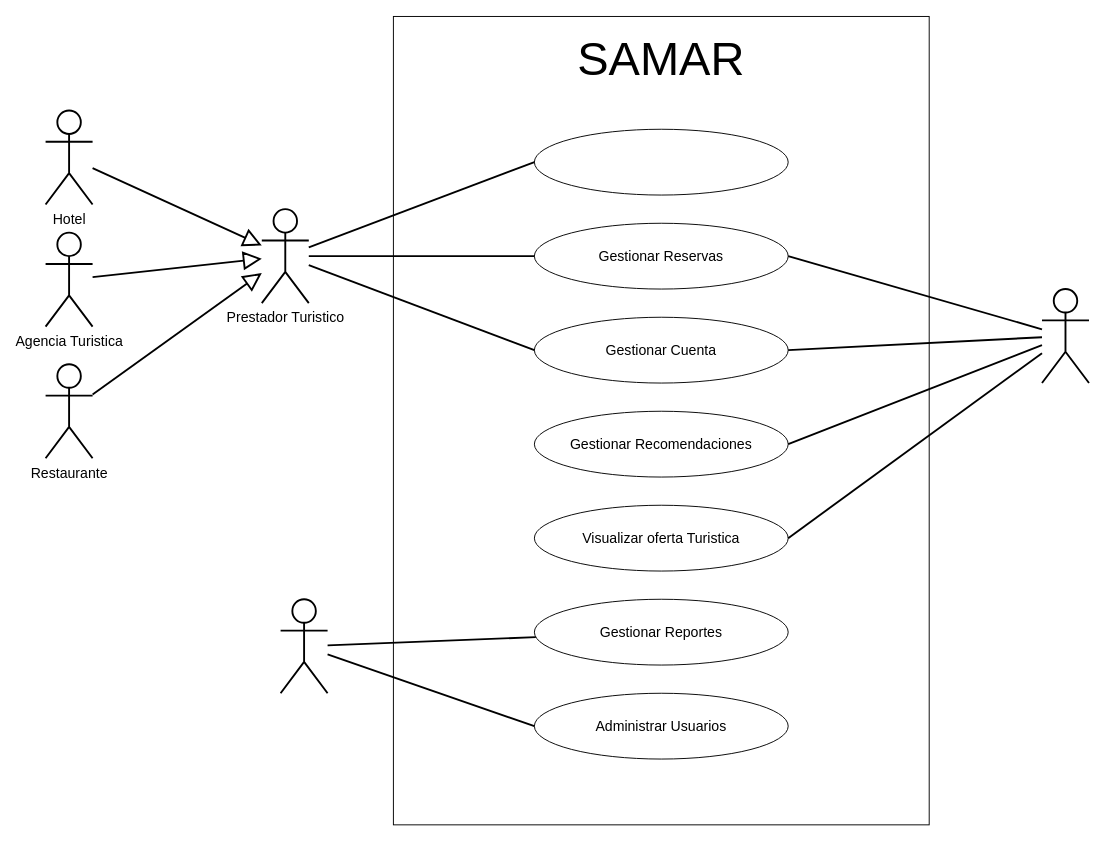
Some shapes in this 1105 by 841 pixel diagram are drawn without their labels. Each missing label, with the centre of its shape:
"Administrador" goes at point 303,646.
"Gestionar Oferta Turistica" goes at point 660,161.
"Turista" goes at point 1065,336.
